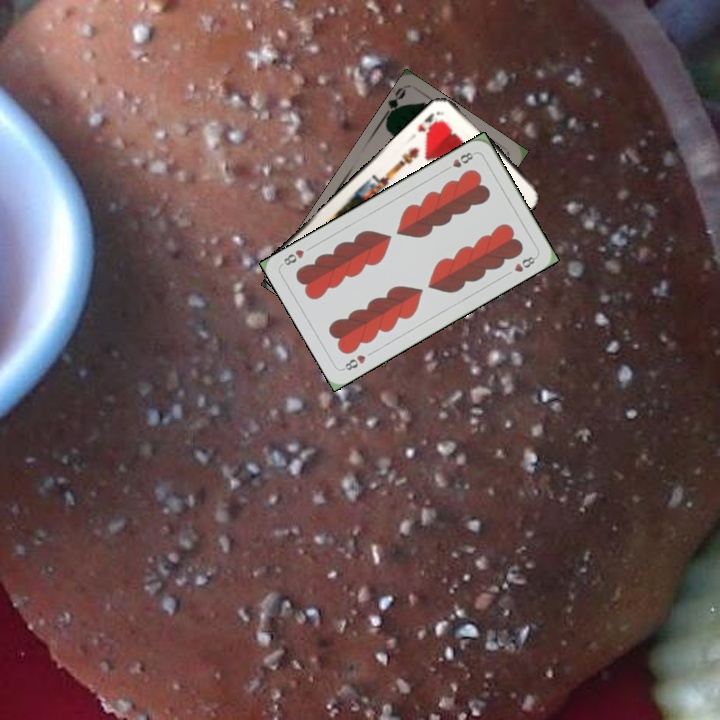GO: (379, 84, 408, 123)
H8: (441, 148, 478, 174), (339, 351, 368, 373)
HK: (414, 107, 444, 137)
